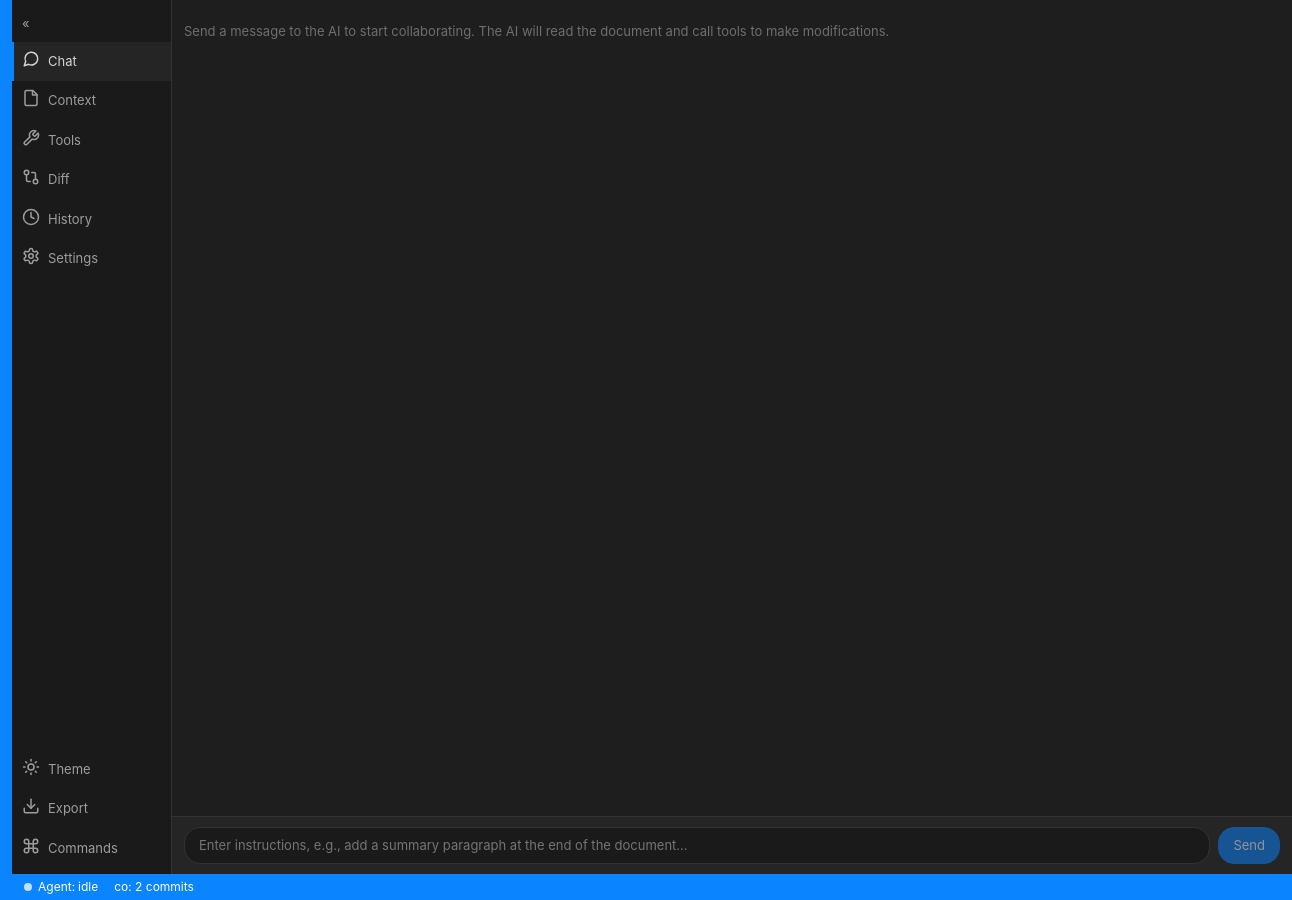
Agent Deck › switches to the Settings panel (LLM endpoint config)
Click the button with test id "rail-settings".
click(92, 259)  # box x1=12 y1=239 x2=171 y2=278
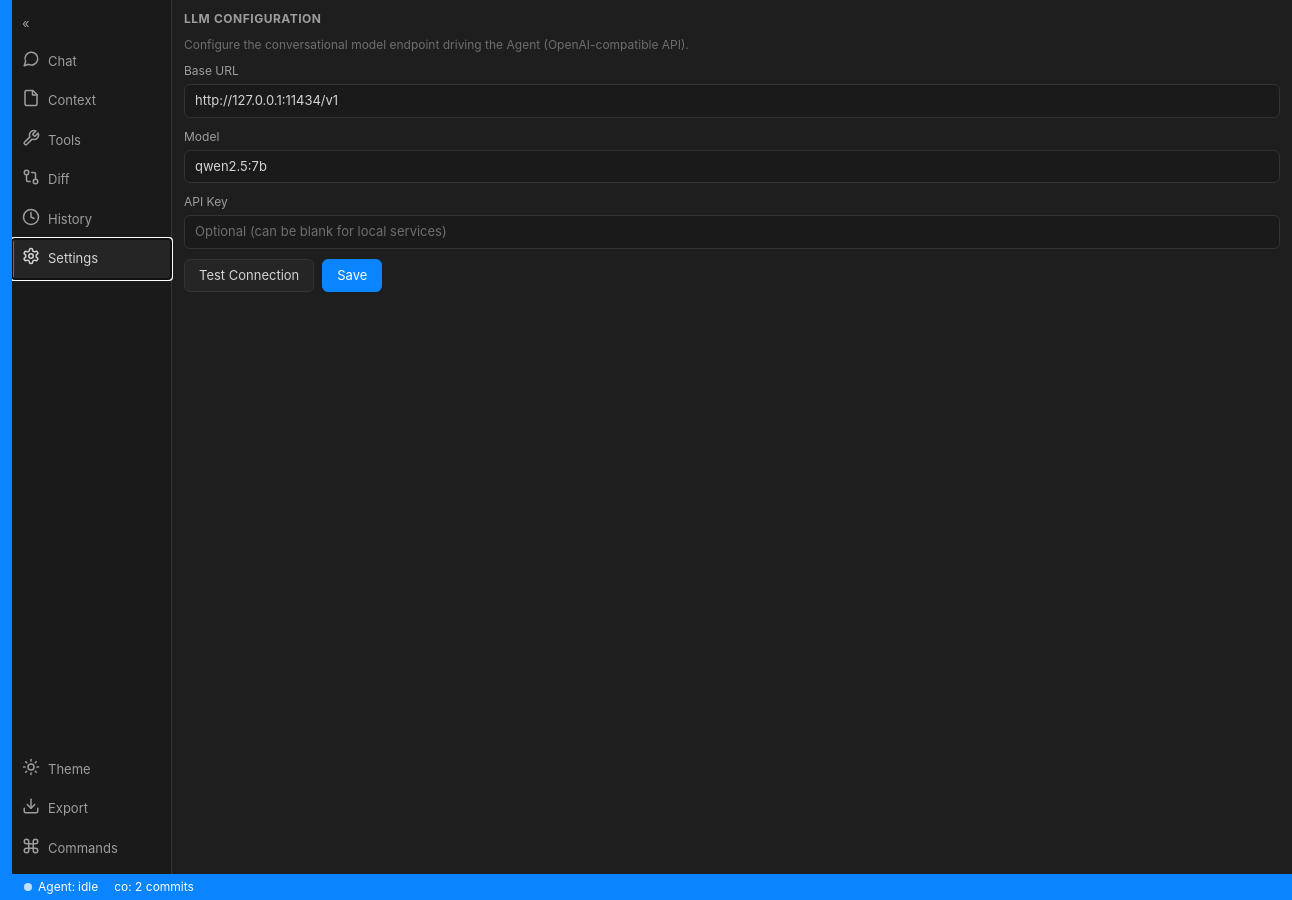
Result: the element with test id "settings-panel" is shown at x1=184 y1=11 x2=1280 y2=292
Result: the heading "LLM Configuration" is shown at x1=184 y1=11 x2=322 y2=26
